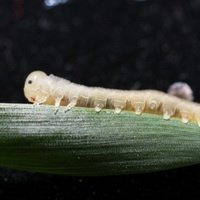insect: (24, 71, 199, 126)
